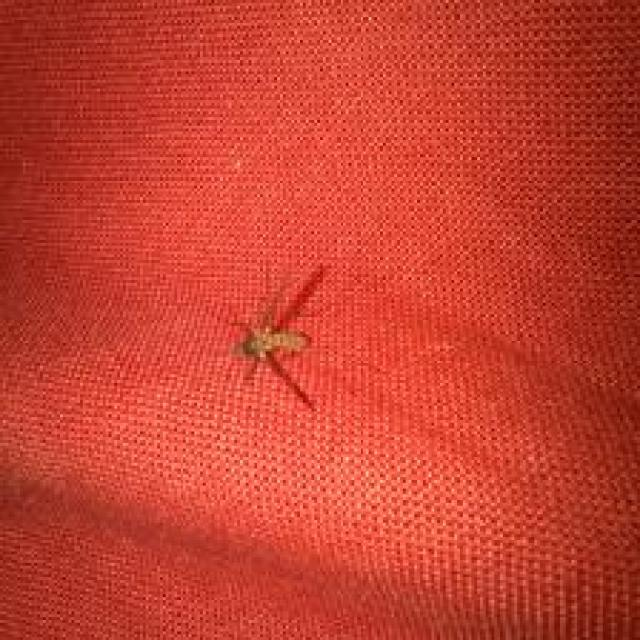Culex: (226, 261, 331, 413)
